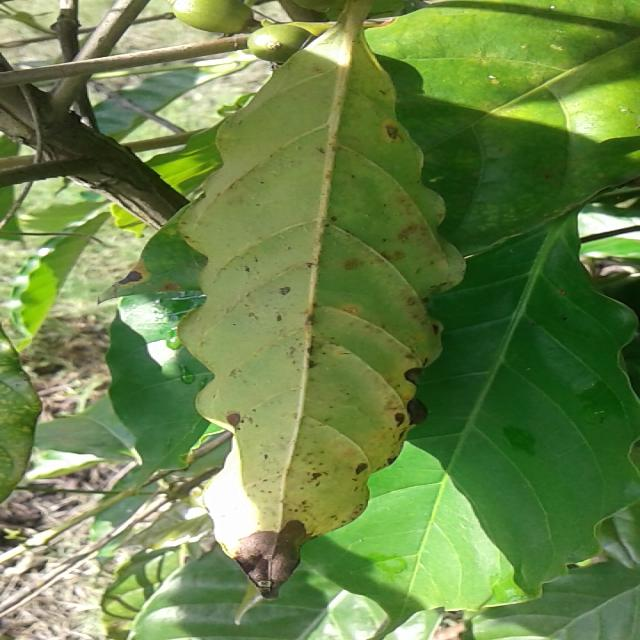Enfermedad-Roya: (180, 28, 466, 596)
